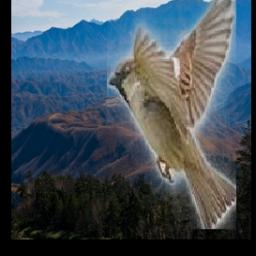Sparrow: (107, 0, 236, 229)
